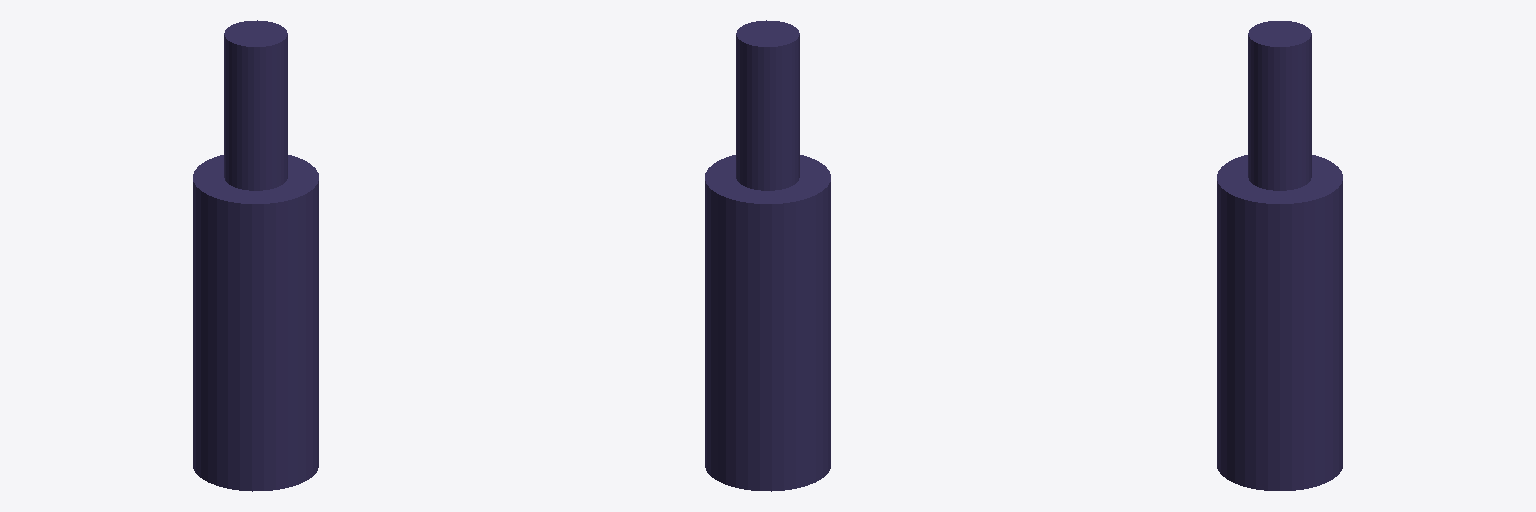
robot.urdf — gonzo:
<?xml version="1.0"?>
<robot name="gonzo">
  <material name="blue">
    <color rgba="0.29 0.26 0.44 1"/>
  </material>
  <link name="base_link">
    <visual>
      <geometry>
        <cylinder length="1.0" radius="0.2"/>
      </geometry>
      <material name="blue"/>
    </visual>
    <collision>
      <geometry>
        <cylinder length="1.0" radius="0.2"/>
      </geometry>
    </collision>
  </link>
  <link name="nose">
    <visual>
      <geometry>
        <cylinder length="0.5" radius="0.1"/>
      </geometry>
      <material name="blue"/>
      <origin xyz="0.0 0.0 0.25"/>
    </visual>
    <collision>
      <geometry>
        <cylinder length="0.5" radius="0.1"/>
      </geometry>
      <origin xyz="0.0 0.0 0.25"/>
  </collision>
  </link>
  <joint name="joint_a" type="continuous">
    <parent link="base_link"/>
    <child link="nose"/>
    <axis xyz="0 1 0"/>
    <origin xyz="0.0 0.0 0.5"/>
  </joint>
</robot>

--- What the picture shows (computed from the rendered views, not written in the file) ---
3 views of the same robot in one strip: view 1: azimuth 30°, elevation 25°; view 2: azimuth 150°, elevation 25°; view 3: azimuth 270°, elevation 25° (orthographic).
Robot: gonzo — 2 links, 1 joints (1 continuous); root link base_link; default pose: every joint at zero.
Links seen in each view (by area): view 1: base_link, nose; view 2: base_link, nose; view 3: base_link, nose.
Boxes of the visible links, x1,y1,x2,y2 form: base_link: [193, 155, 318, 491]; nose: [224, 20, 287, 190]; base_link: [705, 155, 830, 491]; nose: [736, 20, 799, 190]; base_link: [1217, 155, 1342, 490]; nose: [1248, 21, 1311, 190].
Size in the robot's own frame: 0.4 by 0.4 by 1.5 metres.
Geometry: primitives only (box / cylinder / sphere), no mesh files.